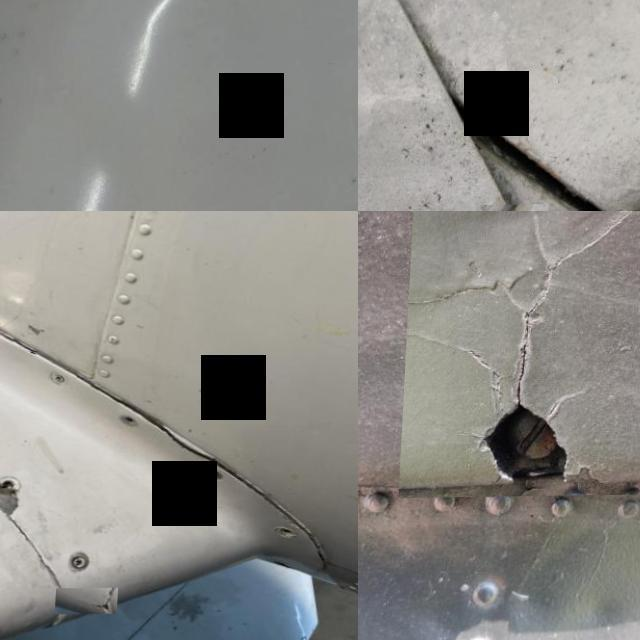Crack: (403, 211, 640, 498), (144, 418, 230, 474), (0, 432, 39, 523), (61, 588, 124, 615)
Missing_Fastener: (122, 414, 144, 428), (282, 528, 302, 543)
